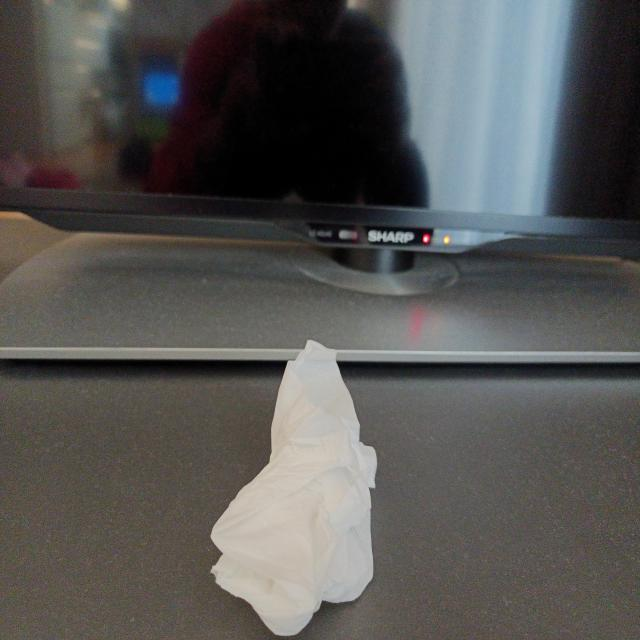Paper: (208, 339, 376, 609)
